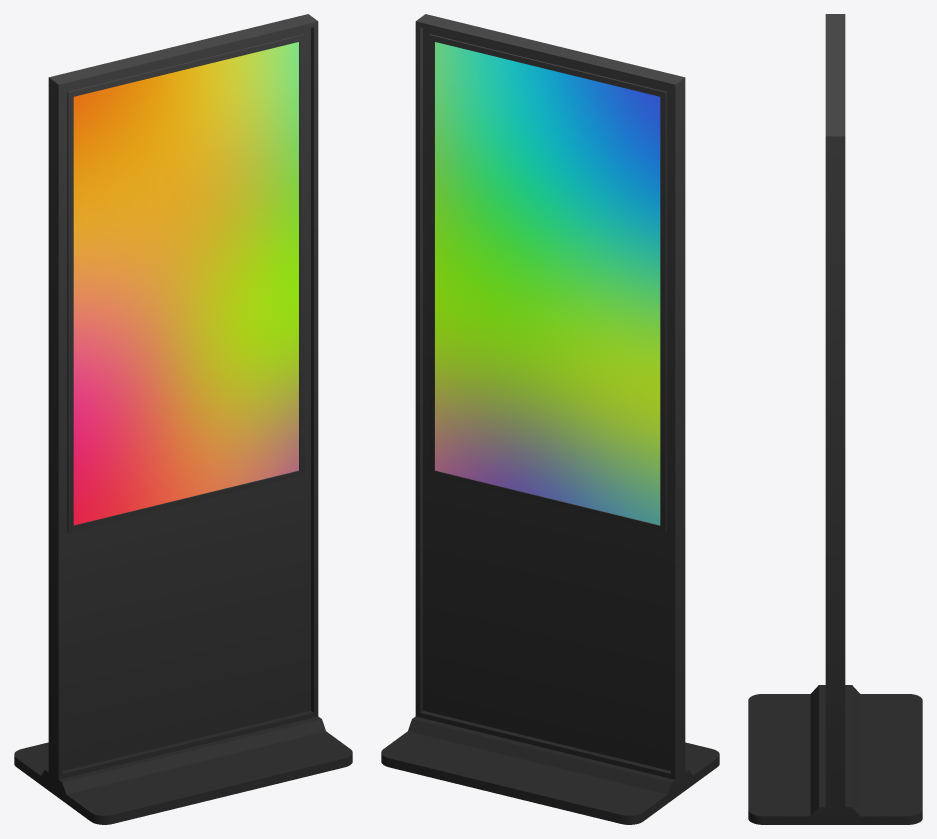
File: digital_information_kiosk_01_medium.glb
The picture shows the model from 3 angles, left to right: view 1: azimuth 30°, elevation 25°; view 2: azimuth 150°, elevation 25°; view 3: azimuth 270°, elevation 25°; orthographic projection. The views are drawn at different scales.
Parts seen in each view (by area): view 1: digital_information_kiosk_01_medium; view 2: digital_information_kiosk_01_medium; view 3: digital_information_kiosk_01_medium.
Part boxes in pixels (bbox=[...]): digital_information_kiosk_01_medium: bbox=[14, 14, 352, 824]; digital_information_kiosk_01_medium: bbox=[381, 14, 719, 824]; digital_information_kiosk_01_medium: bbox=[748, 14, 922, 824].
Size of the model in its own units: 0.747 by 1.96 by 0.45.
2 materials, 2 textured.
